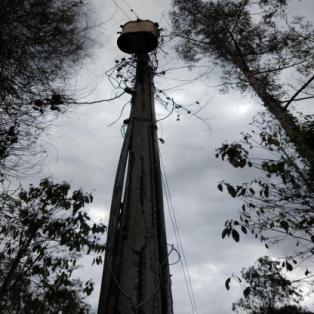Poste: (94, 53, 176, 314)
